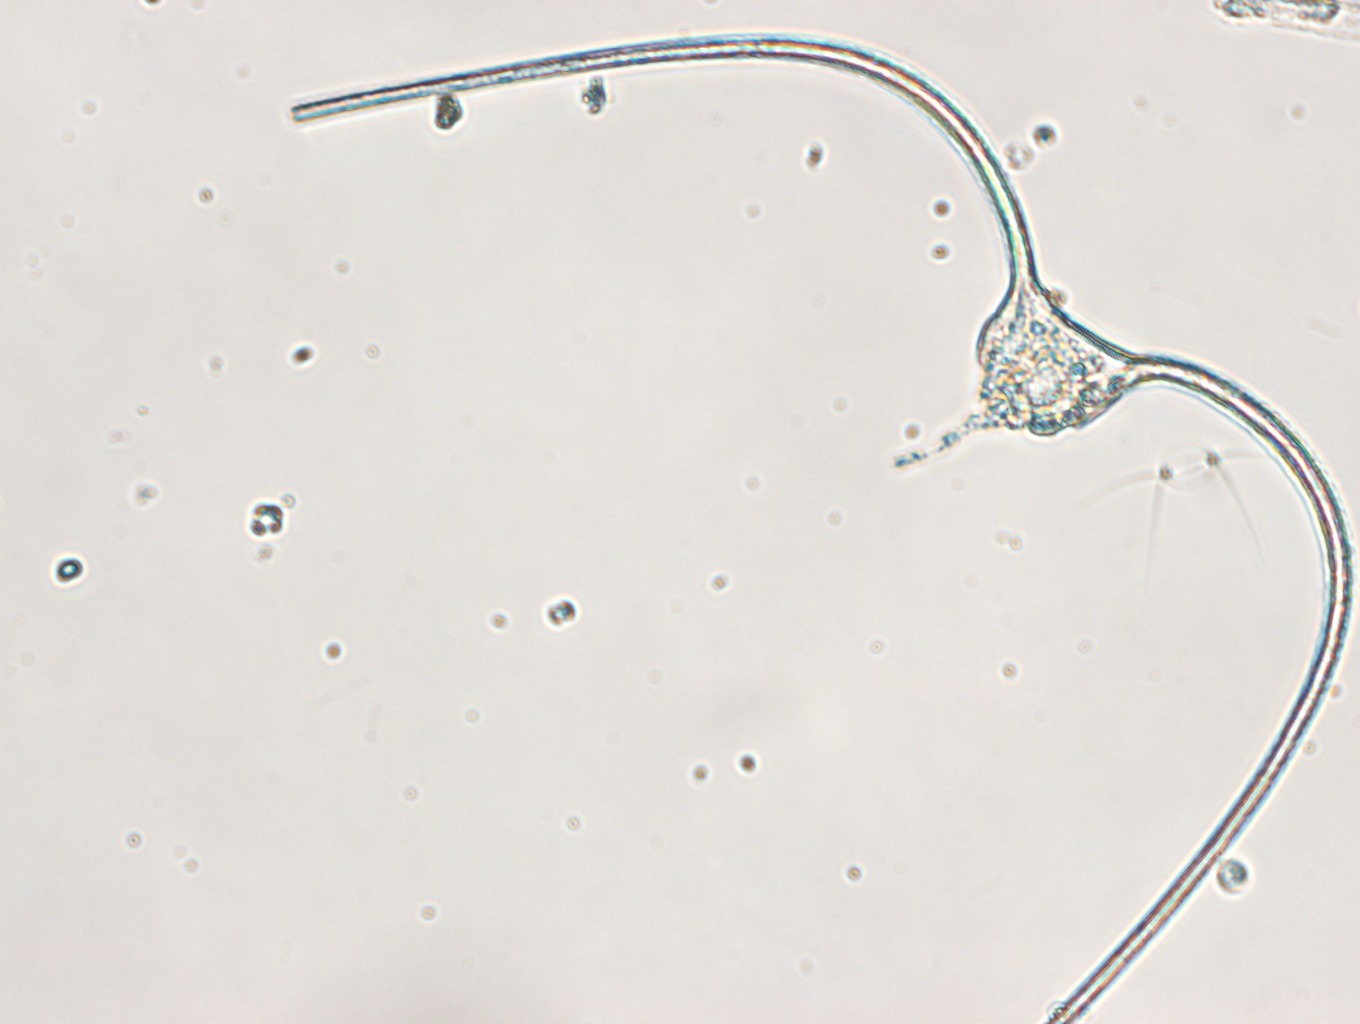ceratium trichoceros: (281, 34, 1354, 1024)
